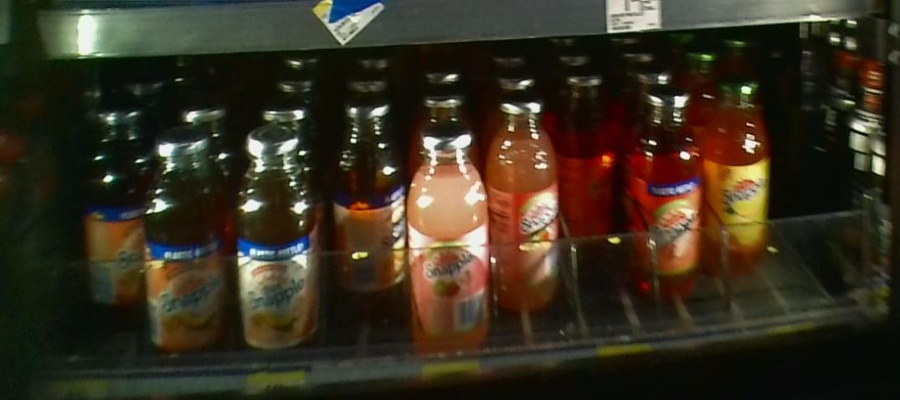bottle: (230, 123, 322, 357), (409, 121, 487, 362), (145, 133, 228, 357), (323, 98, 409, 308), (628, 79, 702, 297), (490, 101, 558, 313), (706, 70, 770, 282), (84, 97, 144, 307), (562, 66, 621, 244)
